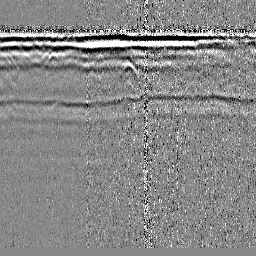cavity: (119, 60, 137, 75)
